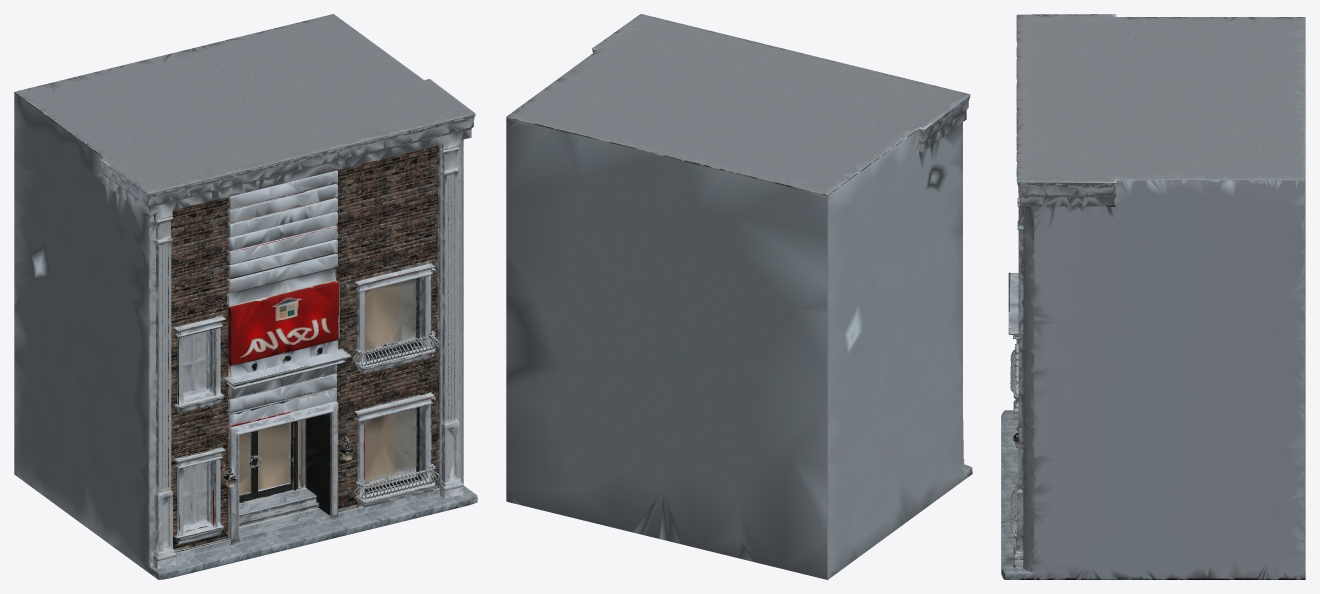
File: alam-albunian1.glb
The picture shows the model from 3 angles, left to right: view 1: azimuth 30°, elevation 25°; view 2: azimuth 150°, elevation 25°; view 3: azimuth 270°, elevation 25°; orthographic projection. The views are drawn at different scales.
Bounding box in the file's own units: 1.72 × 1.9 × 1.31.
Materials: 1 (1 with a texture image).
